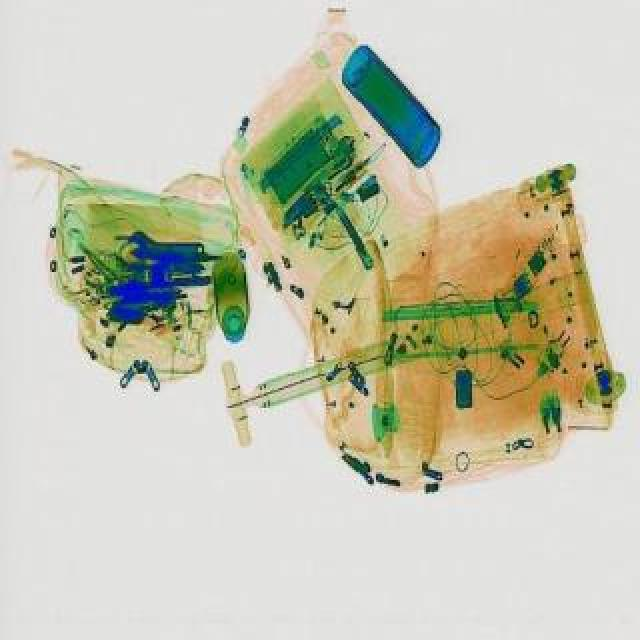scissors: (128, 236, 204, 266)
